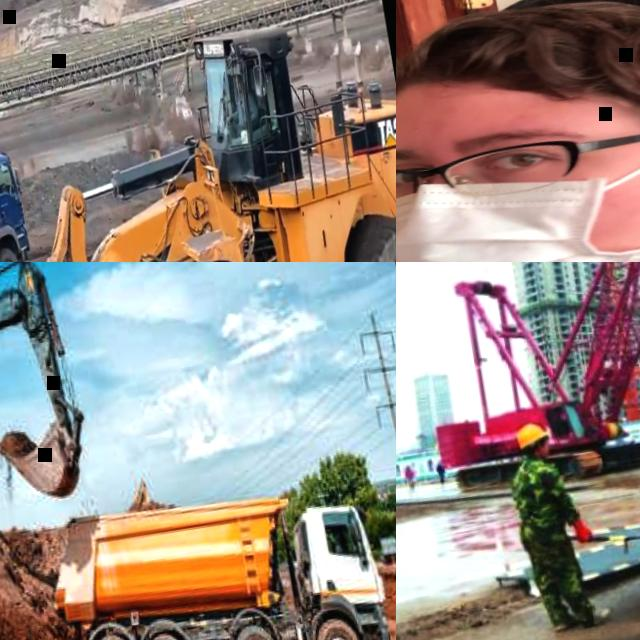Hardhat: (514, 420, 549, 449)
Mask: (396, 139, 640, 262)
NO-Hardhat: (396, 0, 640, 149)
NO-Mask: (535, 444, 553, 458)
NO-Safety Vest: (509, 458, 568, 534), (235, 93, 254, 126)
Person: (396, 0, 640, 262), (502, 413, 608, 634), (222, 81, 258, 130), (403, 464, 417, 492), (434, 461, 446, 484)
vehicle: (0, 0, 396, 262), (36, 472, 396, 640), (0, 262, 97, 553)
